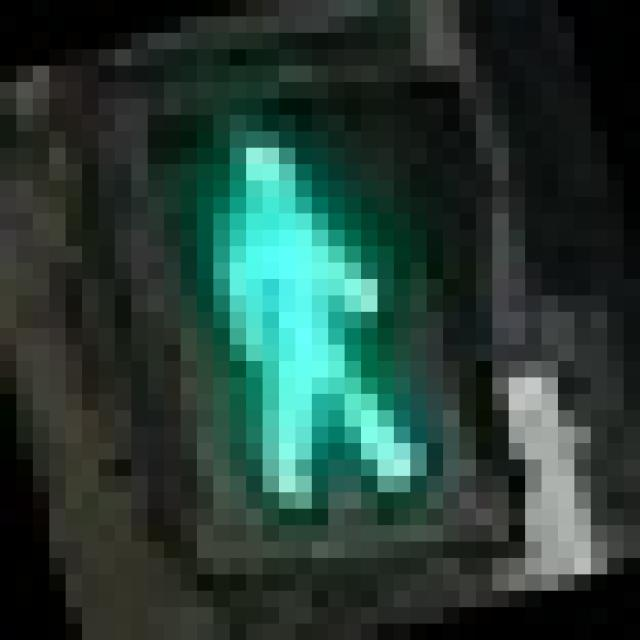green_light: (66, 33, 525, 541)
